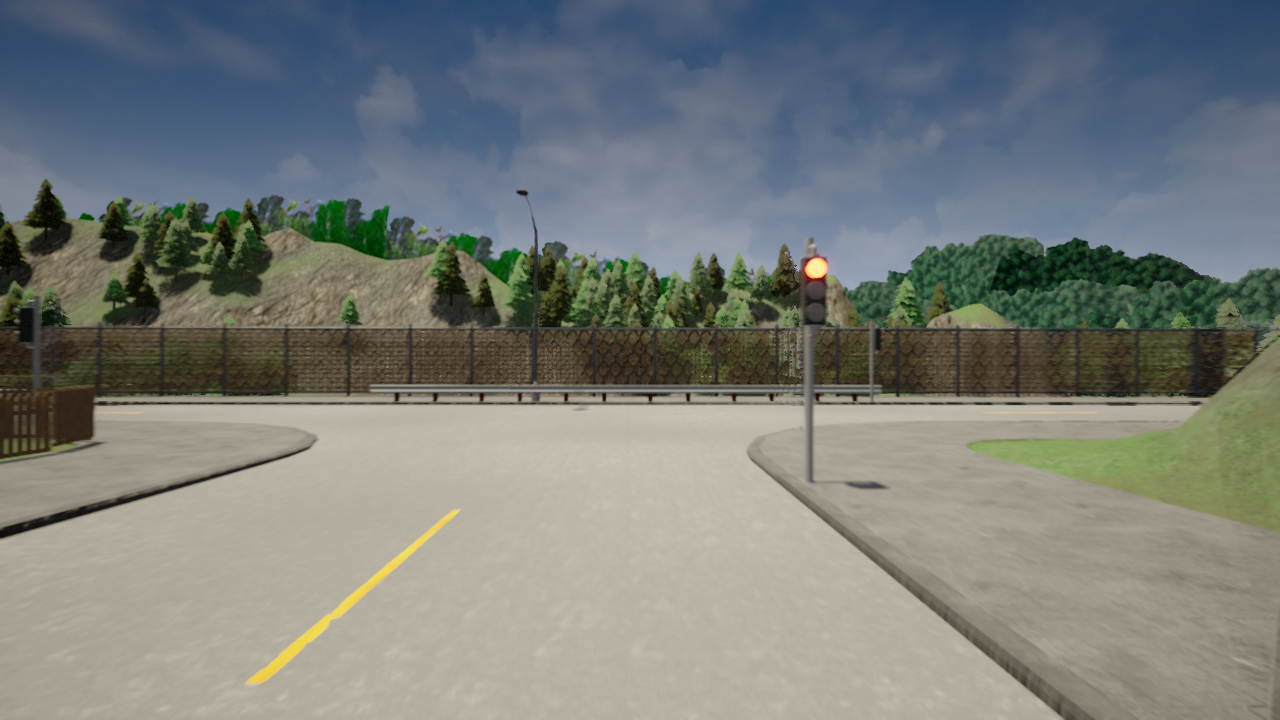red: (797, 254, 832, 332)
